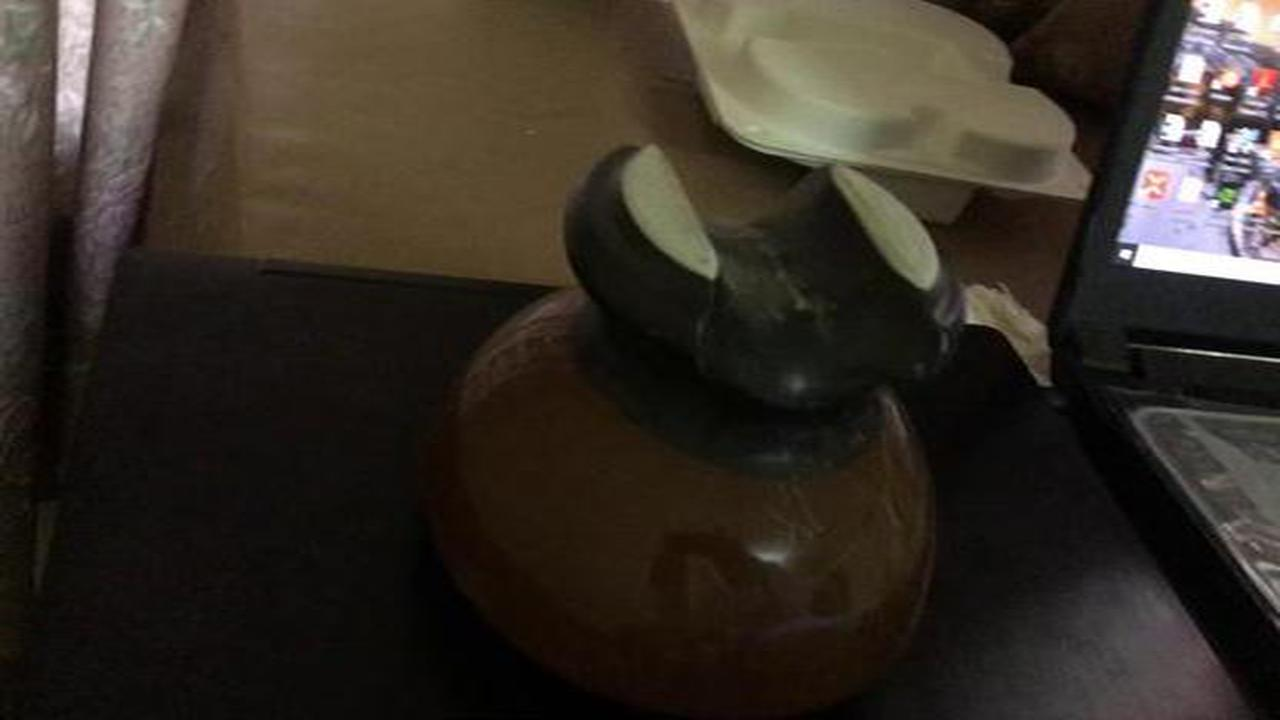insulator_pin: (410, 113, 994, 701)
